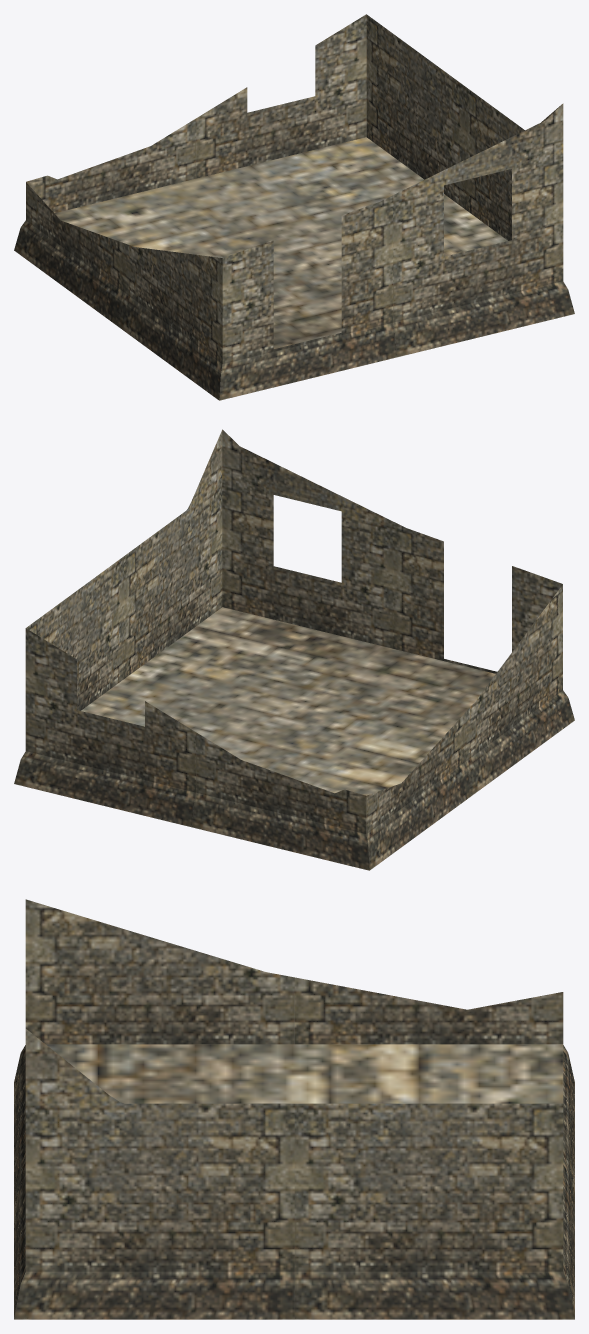
Rendered from s44_b_house_1_1_destroyed_1.dae.
3 views of the same model, one above another, from view 1: azimuth 30°, elevation 25°; view 2: azimuth 150°, elevation 25°; view 3: azimuth 270°, elevation 25° (orthographic). The views are drawn at different scales.
Visible parts, largest first — view 1: s44_b_house_1_1; view 2: s44_b_house_1_1; view 3: s44_b_house_1_1.
Part boxes in pixels (x1=…): s44_b_house_1_1: x1=14, y1=14, x2=574, y2=400; s44_b_house_1_1: x1=14, y1=429, x2=574, y2=870; s44_b_house_1_1: x1=14, y1=899, x2=574, y2=1319.
Size of the model in its own units: 50.11 by 50.11 by 28.2.
1 material, 1 textured.
